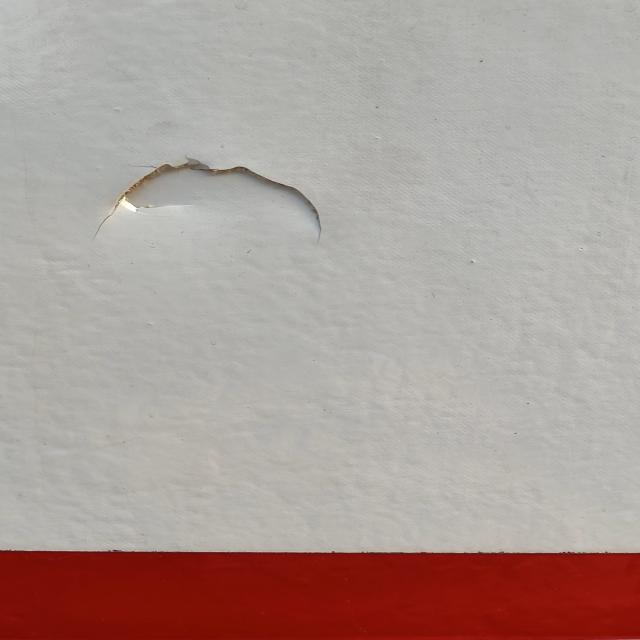Scratches: (94, 140, 340, 250)
